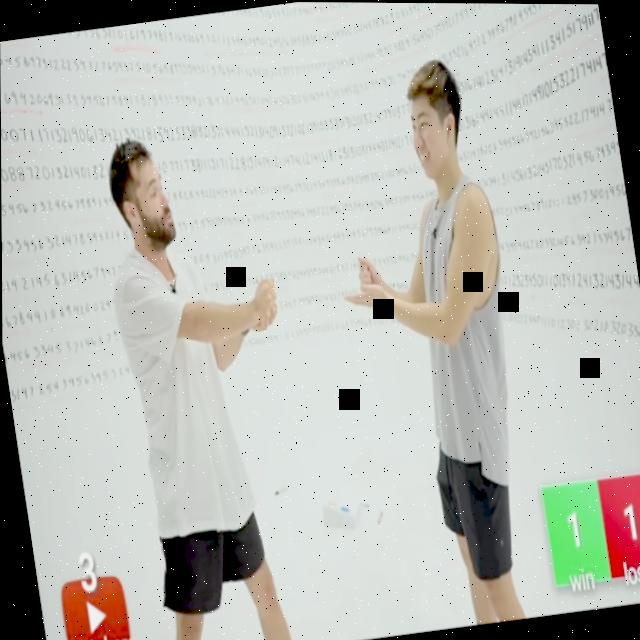Rock: (250, 273, 281, 328), (356, 254, 379, 281)
